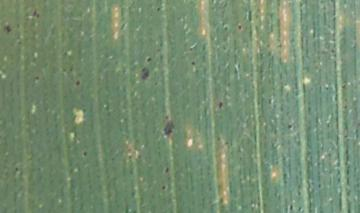tarspot: (163, 120, 175, 137), (140, 65, 150, 81), (2, 23, 13, 34), (31, 7, 41, 19), (280, 171, 288, 184), (217, 100, 225, 110), (286, 122, 294, 131), (288, 202, 294, 213), (145, 56, 153, 64), (189, 59, 197, 67), (295, 189, 303, 197), (340, 82, 348, 90), (163, 165, 170, 174), (74, 79, 81, 87), (236, 23, 243, 31), (223, 25, 230, 33), (160, 183, 166, 192), (81, 150, 88, 157), (155, 6, 161, 13), (215, 135, 220, 143), (33, 75, 39, 81), (13, 166, 19, 172), (317, 182, 321, 191)
